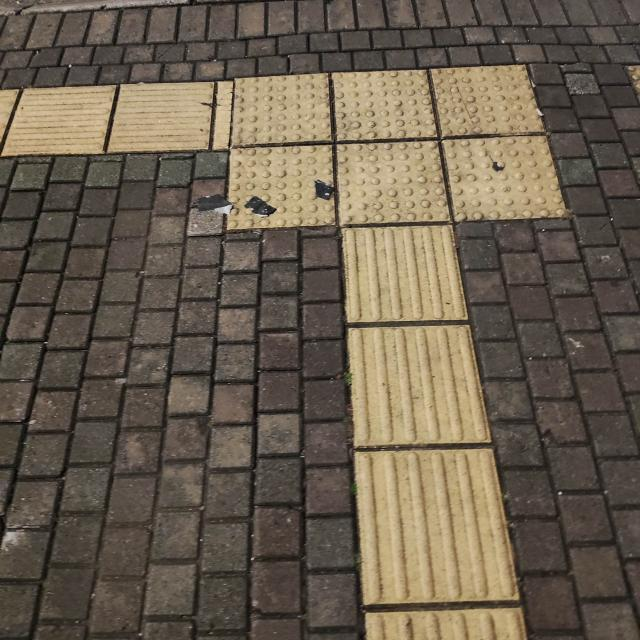kiri: (105, 48, 490, 316)
